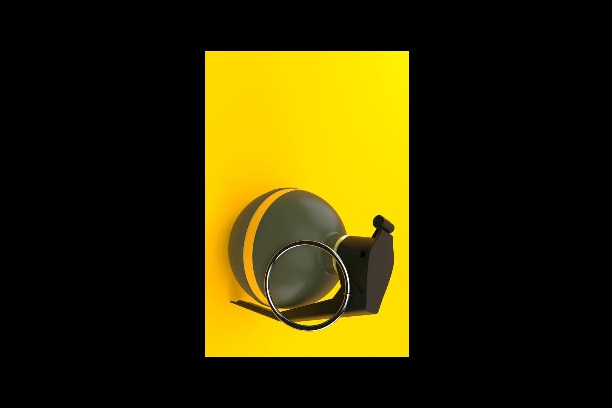e1: (222, 183, 396, 332)
